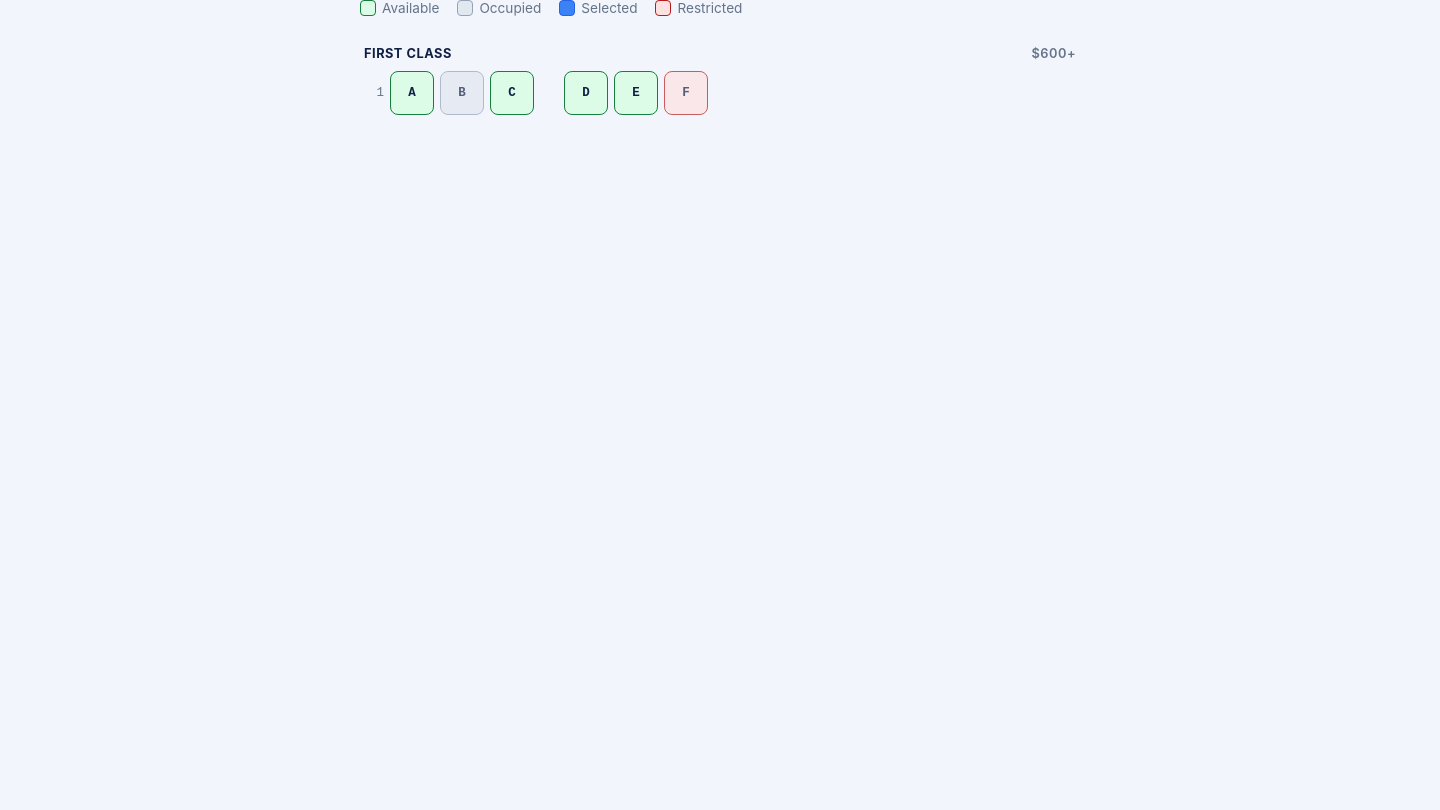
Test: SeatMap Component › clicking an available seat opens the detail popup with price
This screenshot has width=1440, height=810.
Click the button titled "1A - First Class": (412, 93) 390,71 -> 434,115
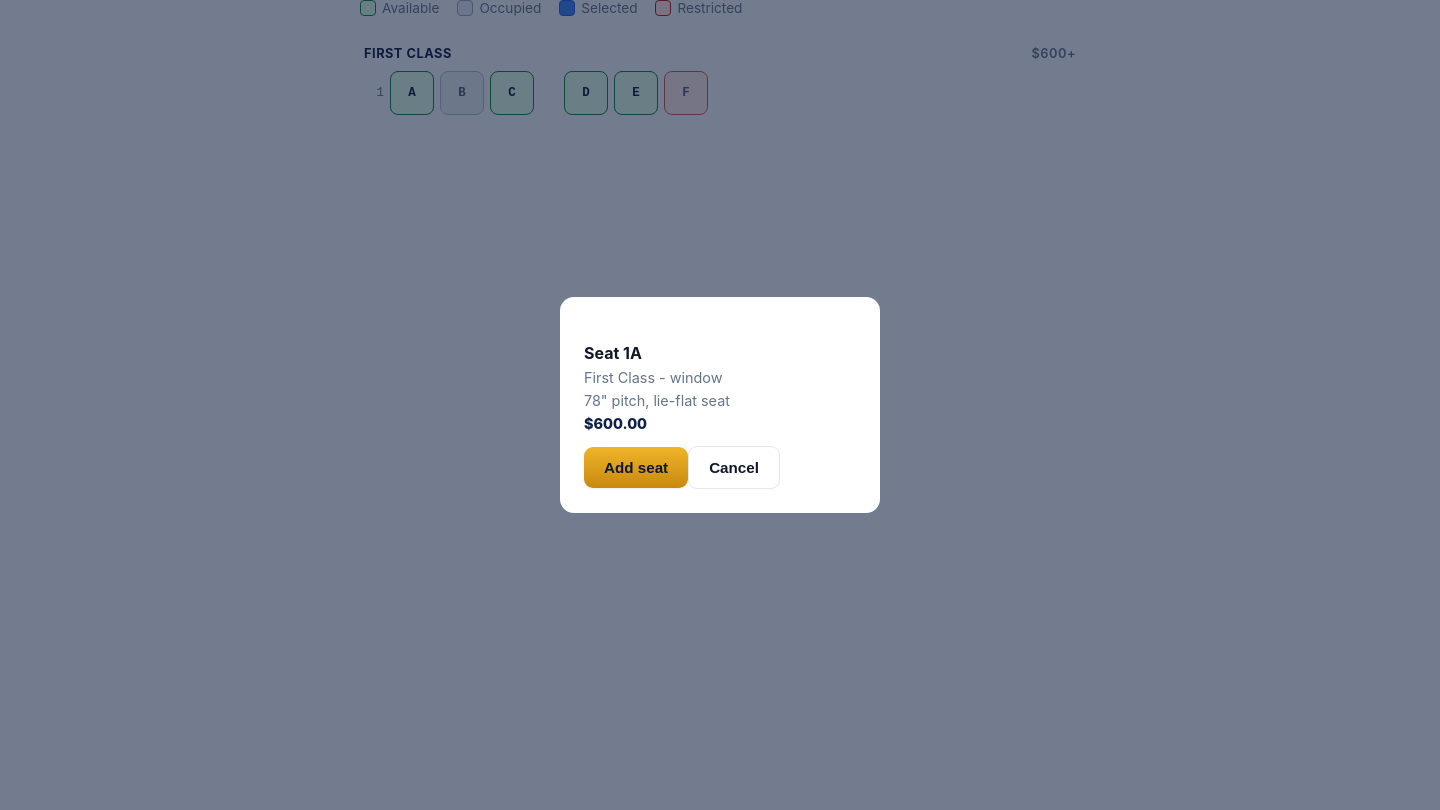
Expected: the heading "Seat 1A" is shown, 584,343 -> 642,363
Expected: the text "$600.00" is shown, 584,415 -> 647,432
